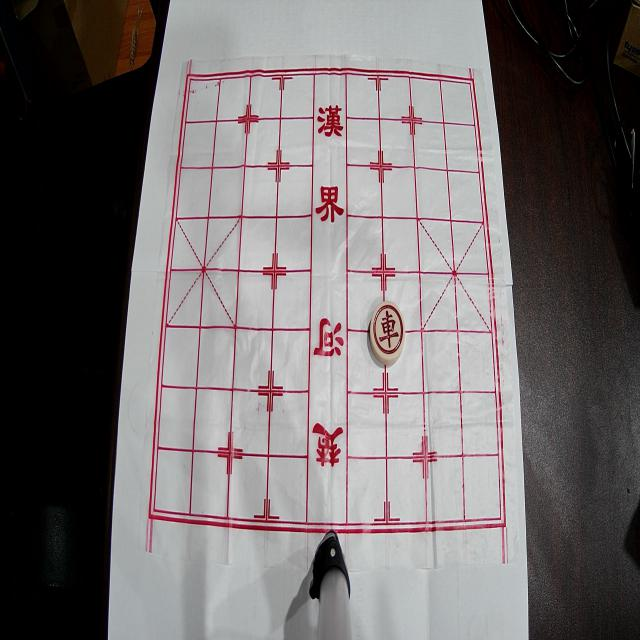red-chariot: (370, 301, 406, 365)
